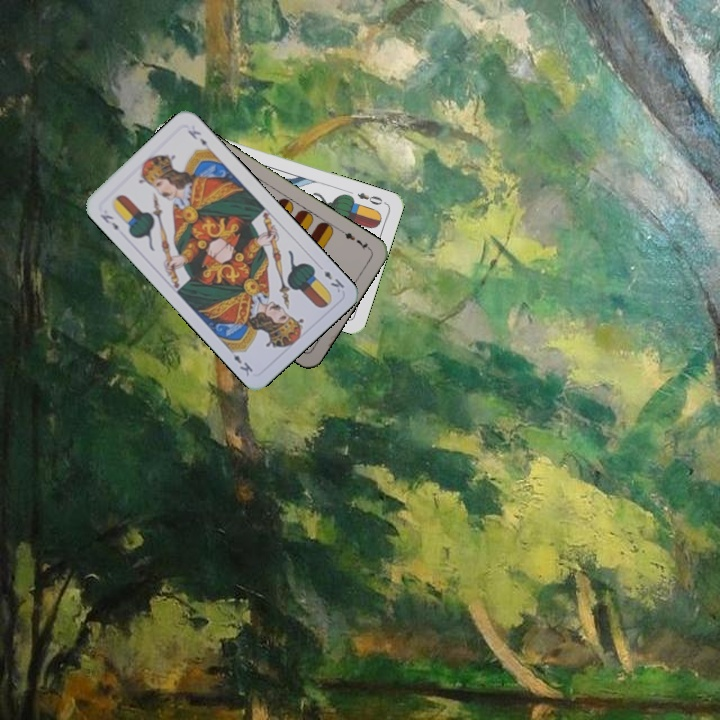E7: (337, 226, 373, 253)
EK: (320, 267, 347, 295), (96, 210, 121, 233)
EO: (353, 188, 385, 208)
